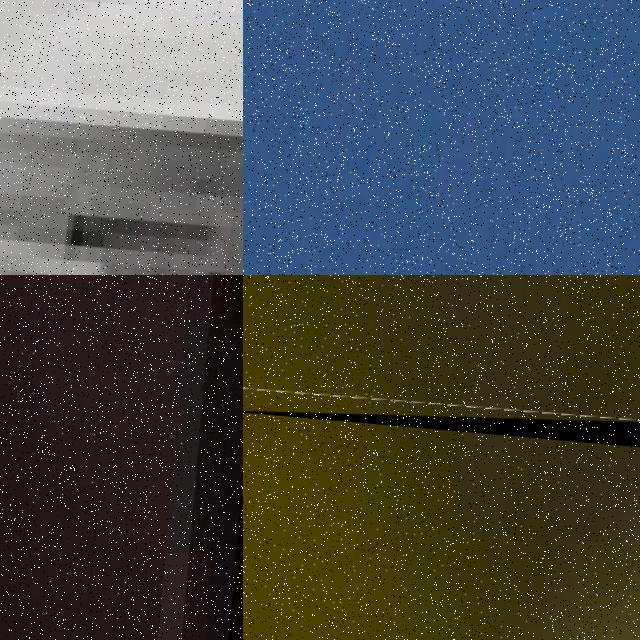drone: (243, 0, 640, 275), (243, 275, 640, 465), (0, 0, 243, 275)
